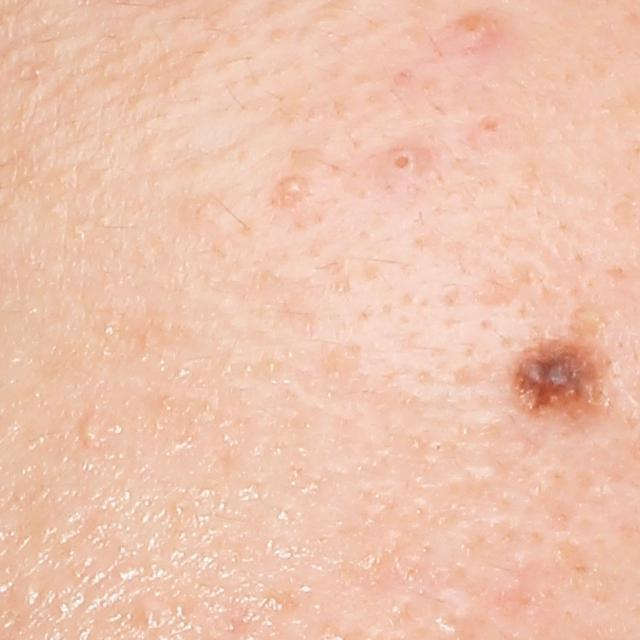comedo: (472, 110, 513, 143), (383, 145, 419, 179), (272, 177, 308, 210), (80, 420, 102, 448)
nevus: (506, 337, 606, 418)
papule: (455, 7, 496, 56)
